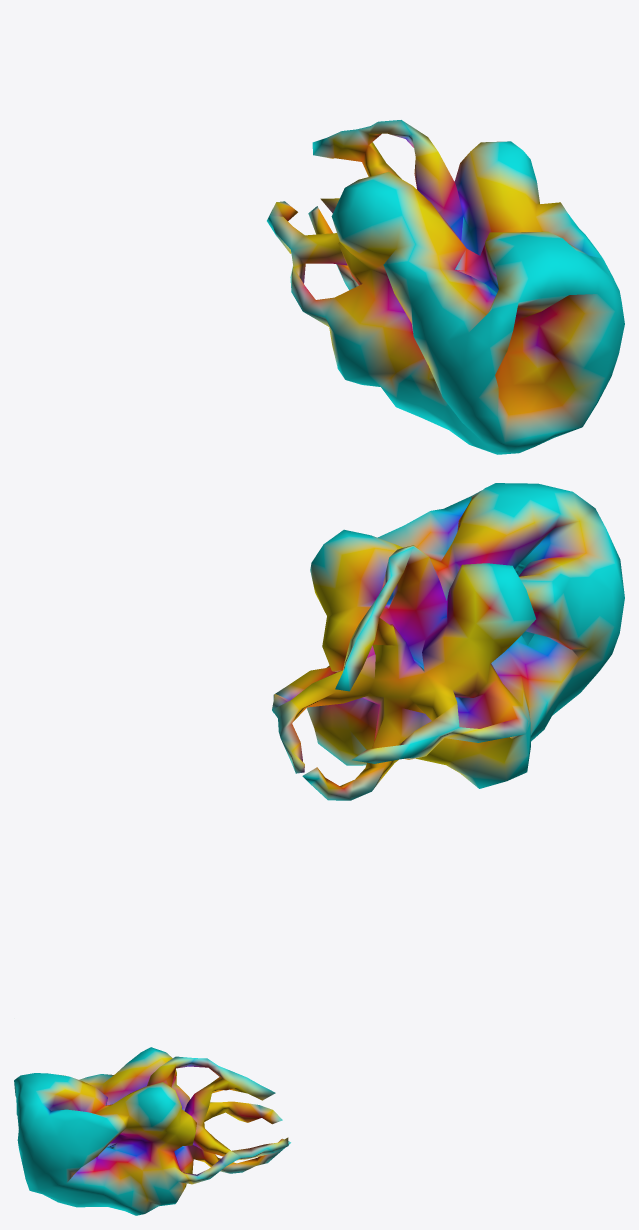
The model's file is jelly_43.gltf.
The picture shows the model from 3 angles, top to bottom: view 1: azimuth 30°, elevation 25°; view 2: azimuth 150°, elevation 25°; view 3: azimuth 270°, elevation 25°; orthographic projection. The views are drawn at different scales.
Visible parts, largest first — view 1: jellysquid3; view 2: jellysquid3; view 3: jellysquid3.
Boxes of the visible parts, <box> form: jellysquid3: <box>267,120,624,454</box>; jellysquid3: <box>272,483,624,800</box>; jellysquid3: <box>14,1047,290,1215</box>.
Size of the model in its own units: 3.81 by 4.13 by 15.72.
